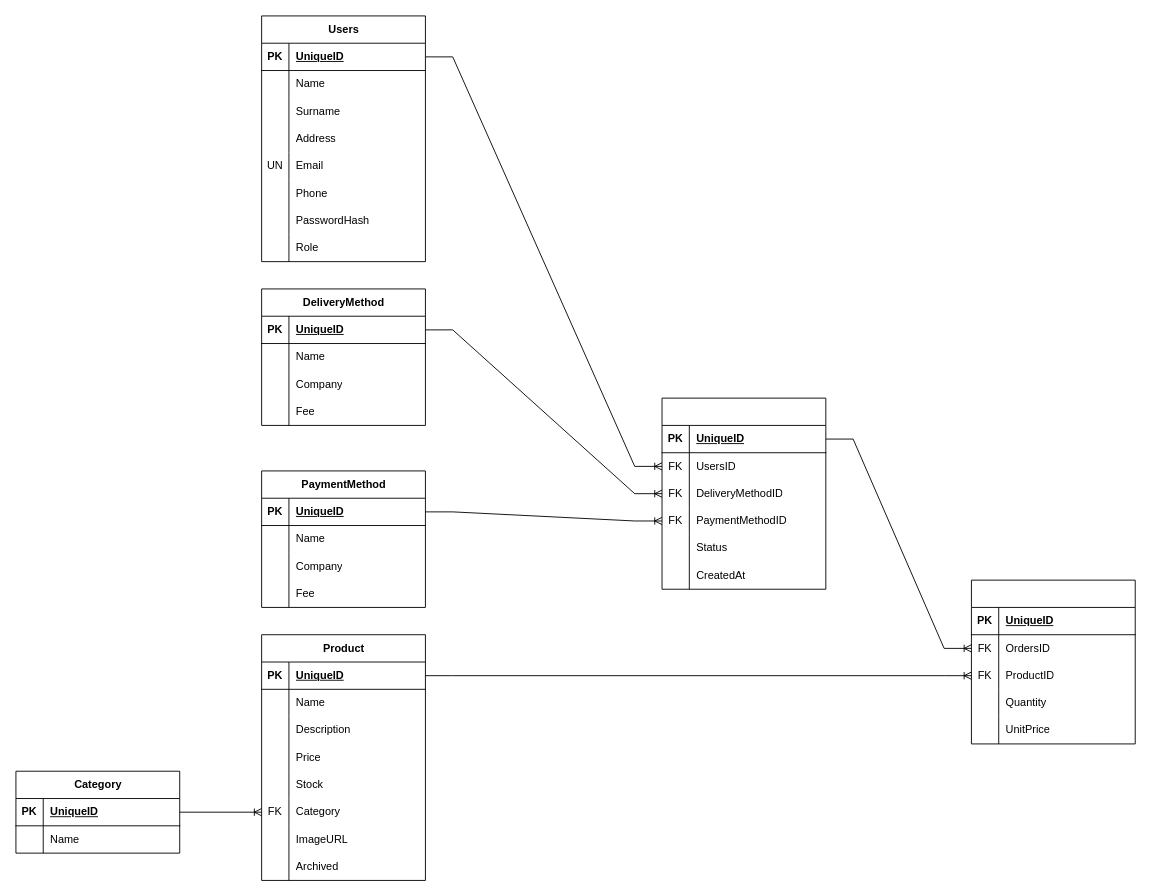
This 1151x896 diagram has some shape labels left out. The shapes that lost their labels are listed below. From the top down, each one's box as (x1, y1, x2, y2) in pixels, then its label:
(661, 397, 826, 589): Orders
(971, 579, 1135, 744): OrderItem
